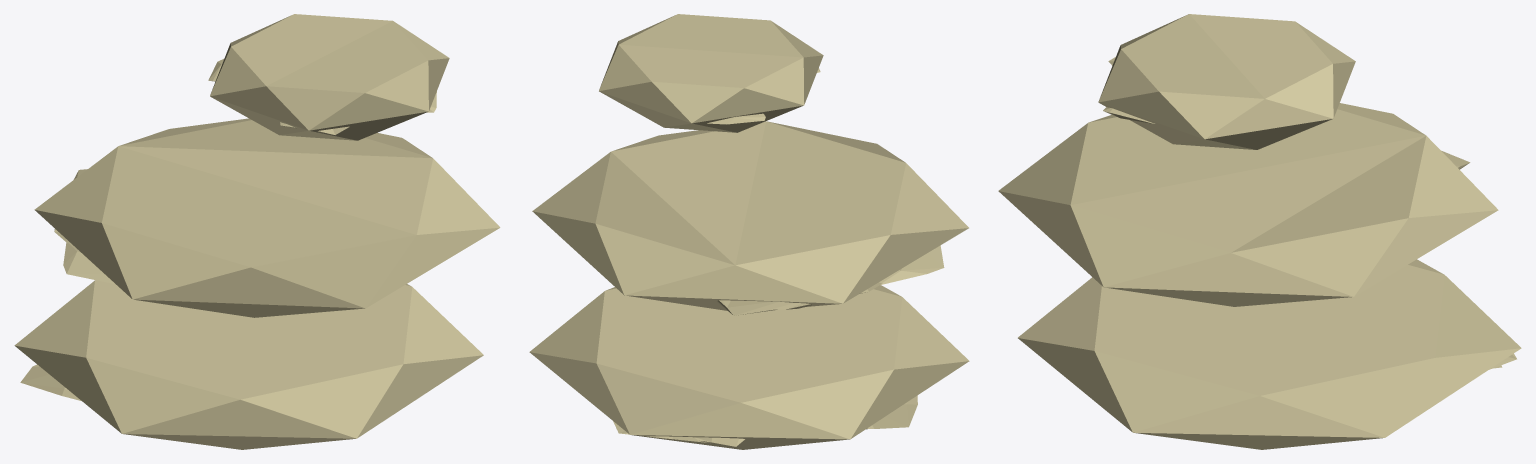
File: Leaves_C.glb
The picture shows the model from 3 angles, left to right: view 1: azimuth 30°, elevation 25°; view 2: azimuth 150°, elevation 25°; view 3: azimuth 270°, elevation 25°; orthographic projection. The views are drawn at different scales.
Visible parts, largest first — view 1: Leaves; view 2: Leaves; view 3: Leaves.
Boxes of the visible parts, left/top/right/bottom form: Leaves: left=14, top=14, right=500, bottom=449; Leaves: left=529, top=14, right=969, bottom=449; Leaves: left=998, top=14, right=1521, bottom=449.
Bounding box in the file's own units: 16.93 × 13.81 × 18.24.
